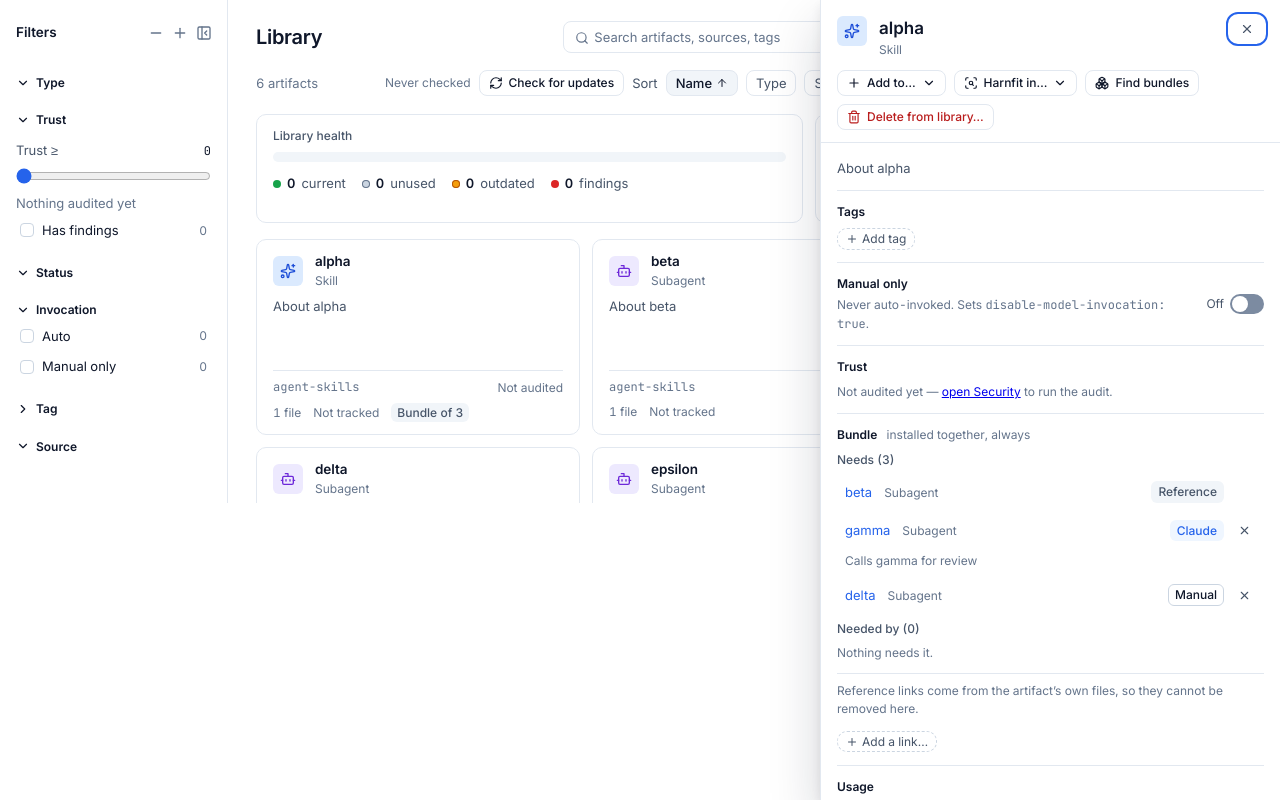
it: bundles in the library › lists needs with origin chips and explains reference links
Expected: the text "Reference" is shown, [1151,481,1224,503]
Expected: the text "Claude" is shown, [1170,520,1224,542]
Click the button "beta Subagent": (911, 492) [845,478,1143,505]
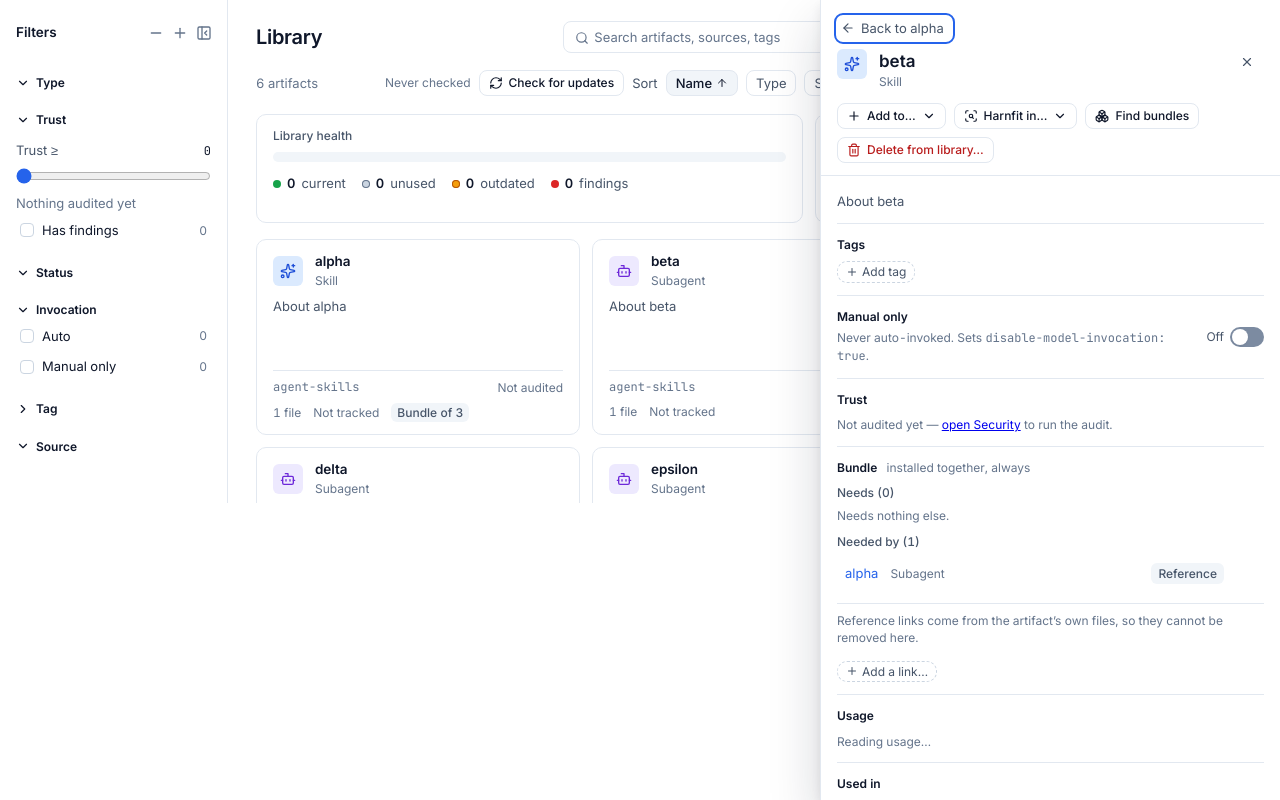
Expected: the button "Back to alpha" is shown, [837,16,952,41]
Expected: the list named "Needed by" is shown, [837,556,1264,591]
